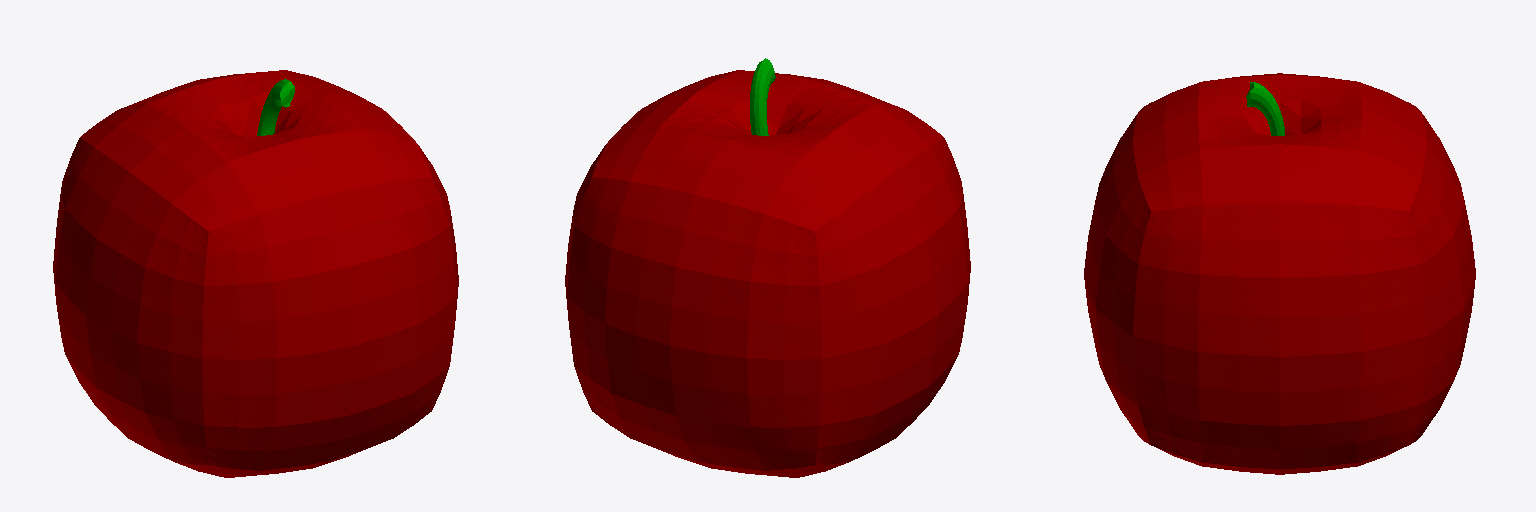
The model's file is pomme.obj.
3 renders of one model, left to right at view 1: azimuth 30°, elevation 25°; view 2: azimuth 150°, elevation 25°; view 3: azimuth 270°, elevation 25°, orthographic.
Parts seen in each view (by area): view 1: Cube, Torus; view 2: Cube, Torus; view 3: Cube, Torus.
Boxes of the visible parts, <box> form: Cube: <box>53,70,458,477</box>; Torus: <box>257,79,294,135</box>; Cube: <box>565,70,970,477</box>; Torus: <box>750,58,775,135</box>; Cube: <box>1084,73,1475,474</box>; Torus: <box>1246,82,1284,135</box>.
Bounding box in the file's own units: 5.19 × 5.32 × 5.19.